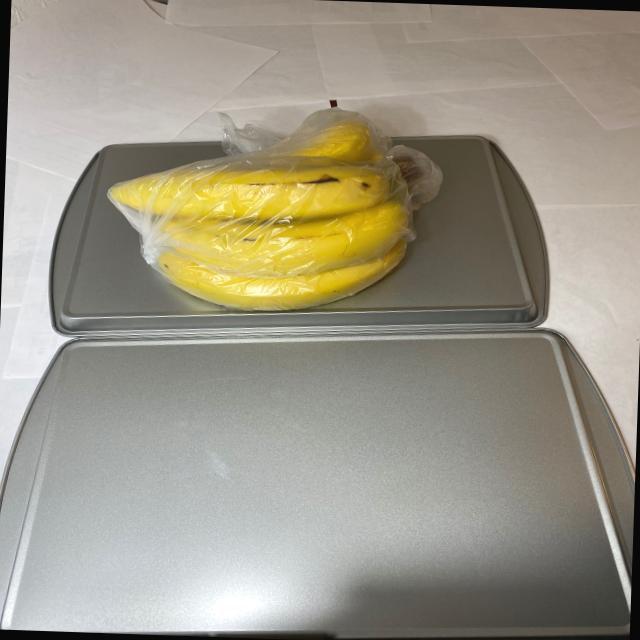banana: (97, 84, 423, 317)
